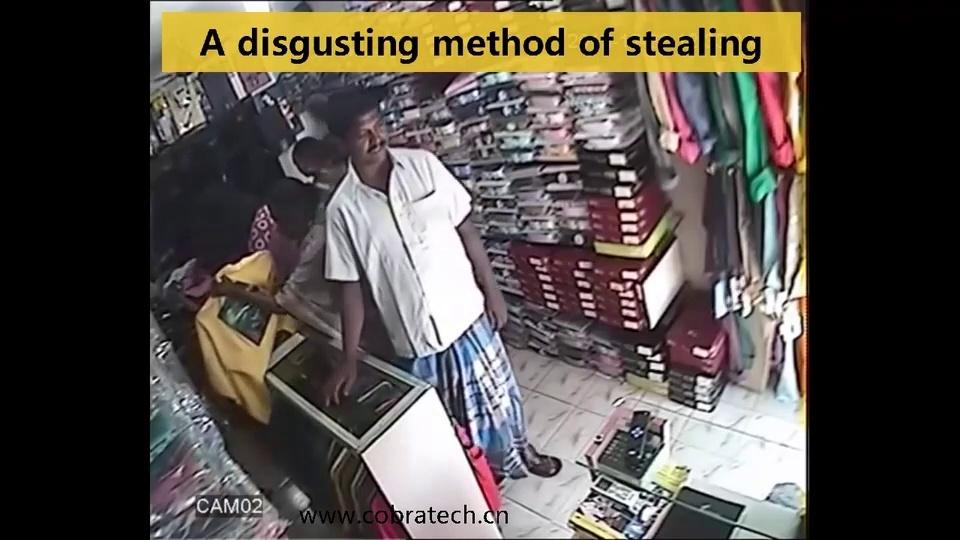Product: (195, 272, 269, 377)
Product-Picked: (231, 186, 304, 317)
Regular: (283, 108, 532, 493)
